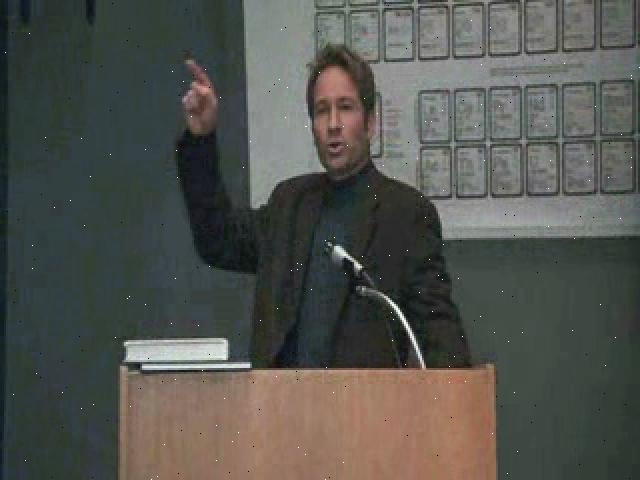T: (159, 37, 469, 375)
